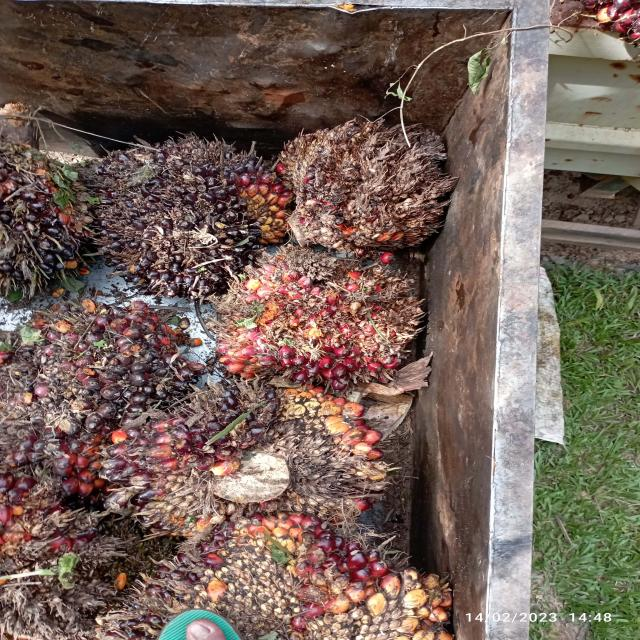fraksi 00: (72, 128, 300, 292), (17, 290, 198, 428)
fraksi 3: (207, 220, 426, 399)
fraksi 4: (274, 106, 462, 260)
